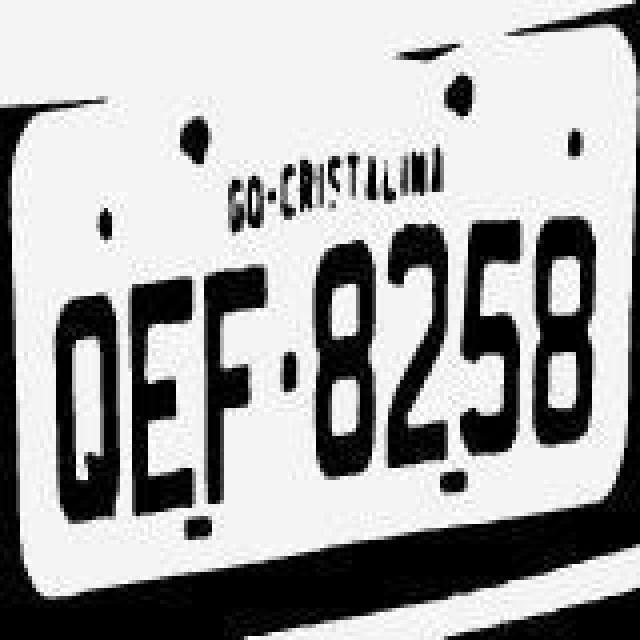2: (382, 218, 450, 470)
5: (464, 212, 528, 460)
8: (310, 238, 378, 482), (534, 212, 602, 452)
E: (126, 270, 202, 522)
F: (194, 264, 270, 504)
Q: (52, 294, 124, 530)
